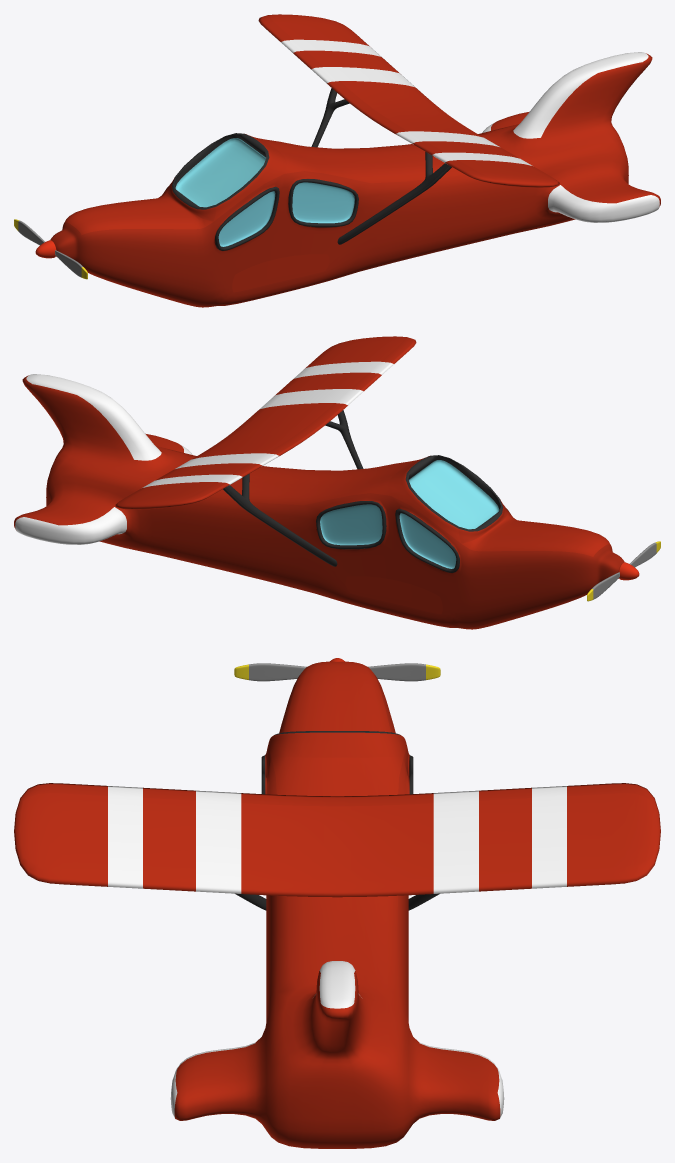
File: styloo-planeazer.glb
3 renders of one model, top to bottom at view 1: azimuth 30°, elevation 25°; view 2: azimuth 150°, elevation 25°; view 3: azimuth 270°, elevation 25°, orthographic. The views are drawn at different scales.
Visible parts, largest first — view 1: Cube.020, Cube.022; view 2: Cube.020, Cube.022; view 3: Cube.020, Cube.022.
Boxes of the visible parts, box(x1,y1,x2,y2) form: Cube.020: box(50, 14, 660, 307); Cube.022: box(14, 219, 87, 279); Cube.020: box(14, 336, 624, 629); Cube.022: box(587, 541, 660, 601); Cube.020: box(14, 661, 660, 1148); Cube.022: box(234, 658, 440, 681).
Size of the model in its own units: 8.3 by 2.02 by 5.42.
Materials: 1 (1 with a texture image).
